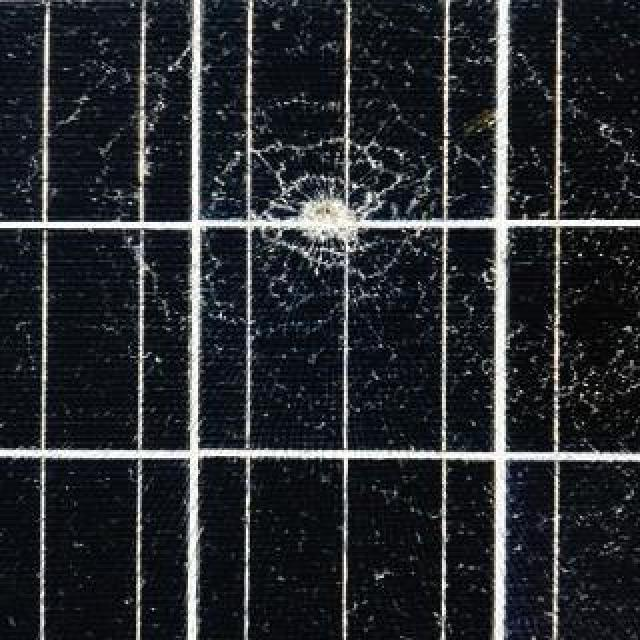cracked: (4, 0, 636, 638)
